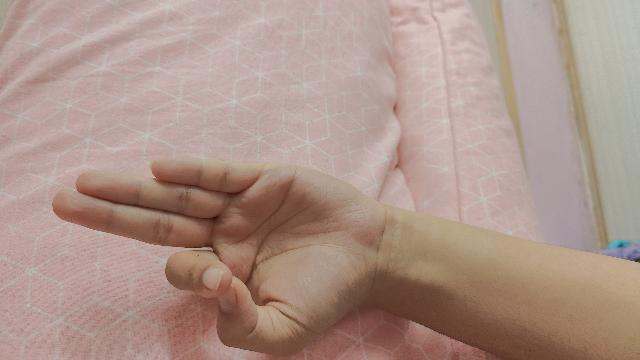aral: (51, 158, 640, 360)
